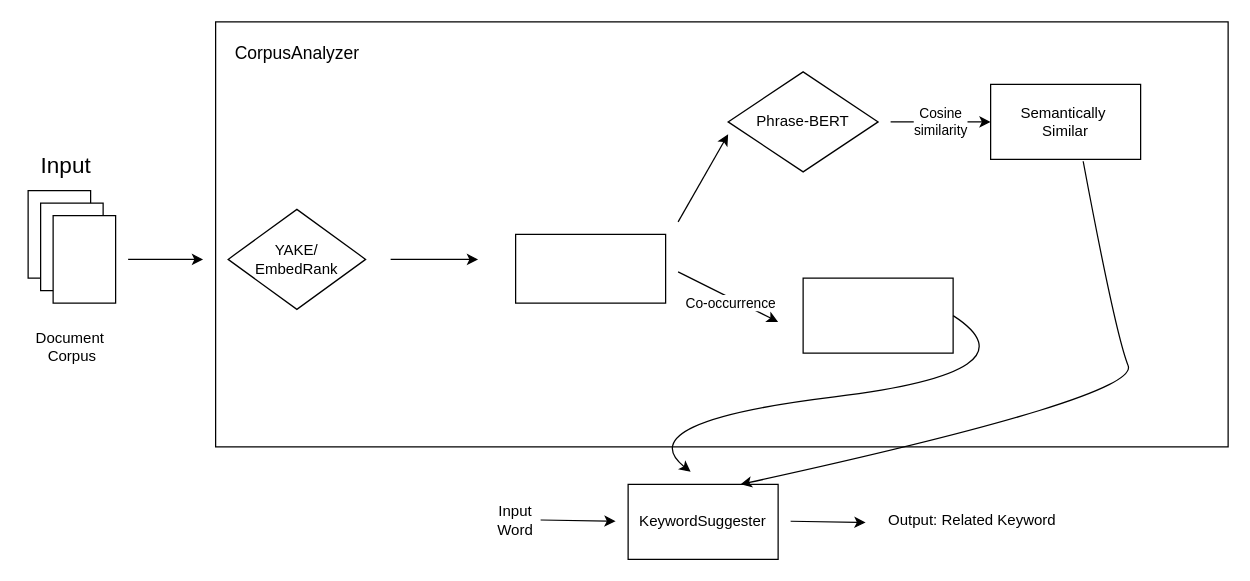
The diagram is 1250 pixels wide and 581 high, and some of its shapes have lost their labels. Here are the shapes that lost their labels. From the top down, the box of each, then its label:
(514, 233, 666, 303): Candidate Keywords
(802, 277, 953, 353): Semantically Related
